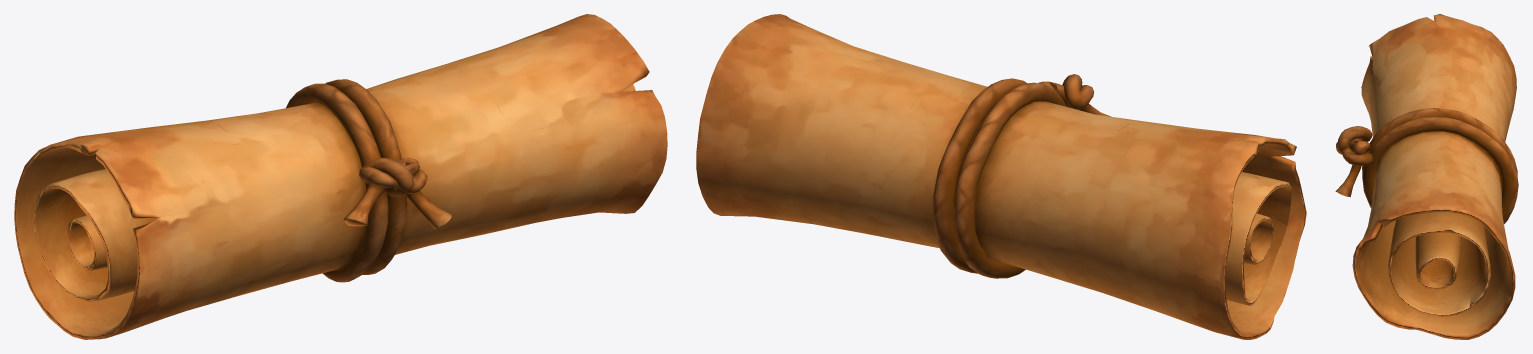
The model's file is sumicio_pergamino.glb.
The picture shows the model from 3 angles, left to right: view 1: azimuth 30°, elevation 25°; view 2: azimuth 150°, elevation 25°; view 3: azimuth 270°, elevation 25°; orthographic projection. The views are drawn at different scales.
Parts seen in each view (by area): view 1: Pergamino; view 2: Pergamino; view 3: Pergamino.
Part boxes in pixels (bbox=[...]): Pergamino: bbox=[14, 14, 667, 339]; Pergamino: bbox=[696, 14, 1306, 339]; Pergamino: bbox=[1335, 14, 1518, 339].
Bounding box in the file's own units: 0.3 × 0.1011 × 0.1192.
1 material, 1 textured.
